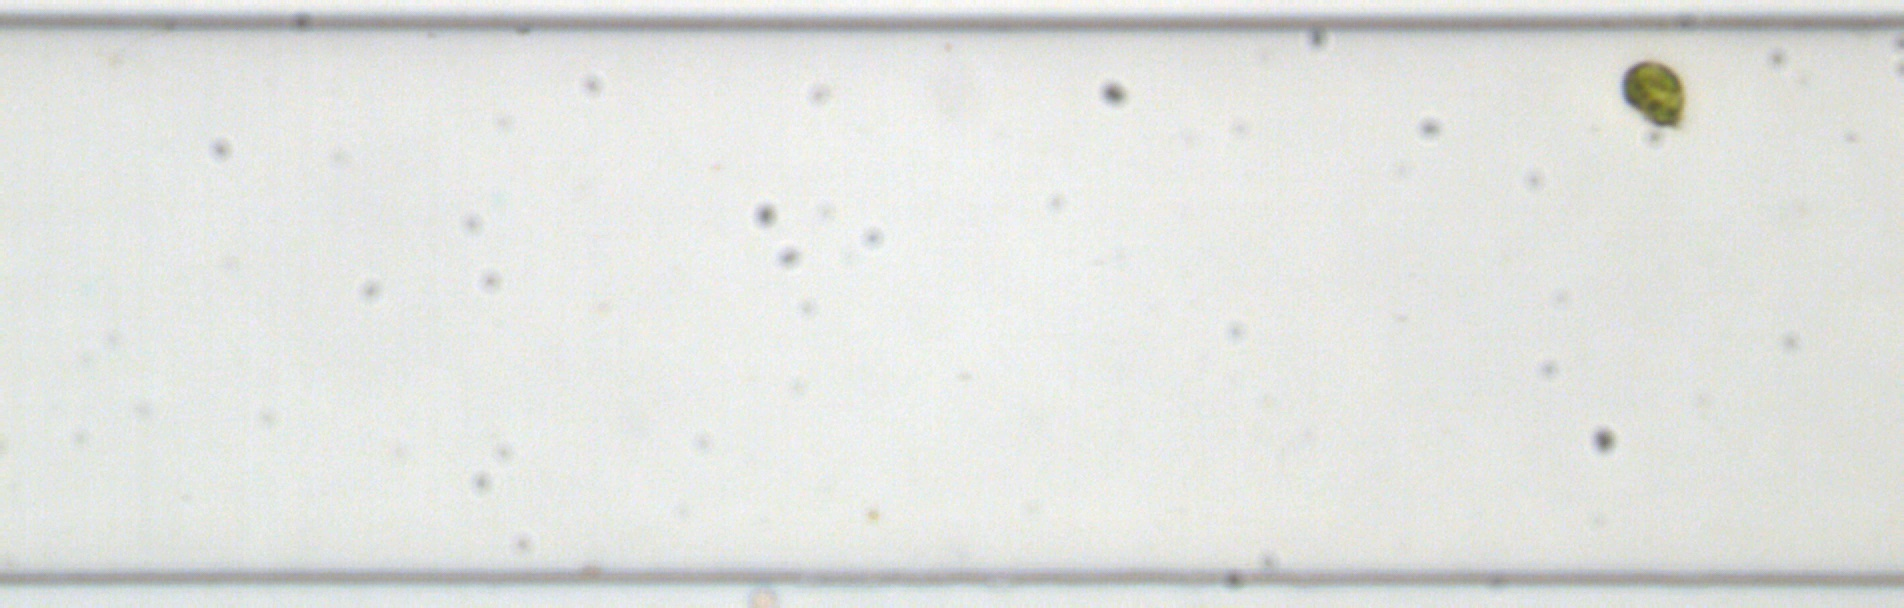Platymonas: (1614, 55, 1691, 133)
